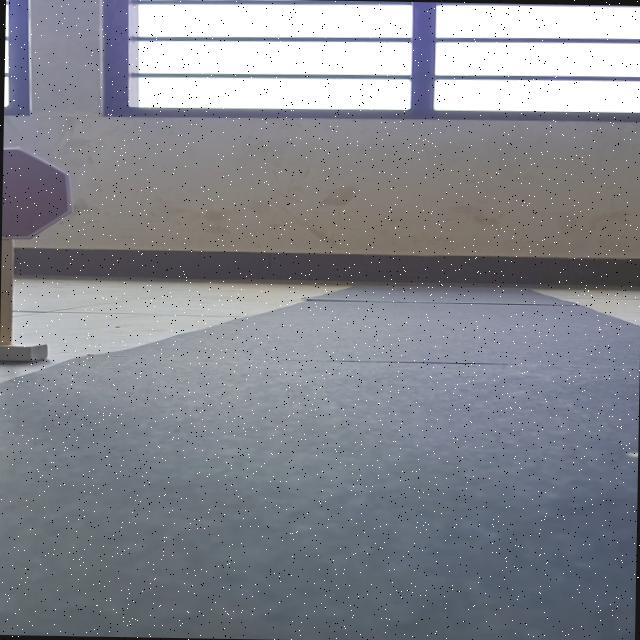Stop: (1, 148, 75, 240)
